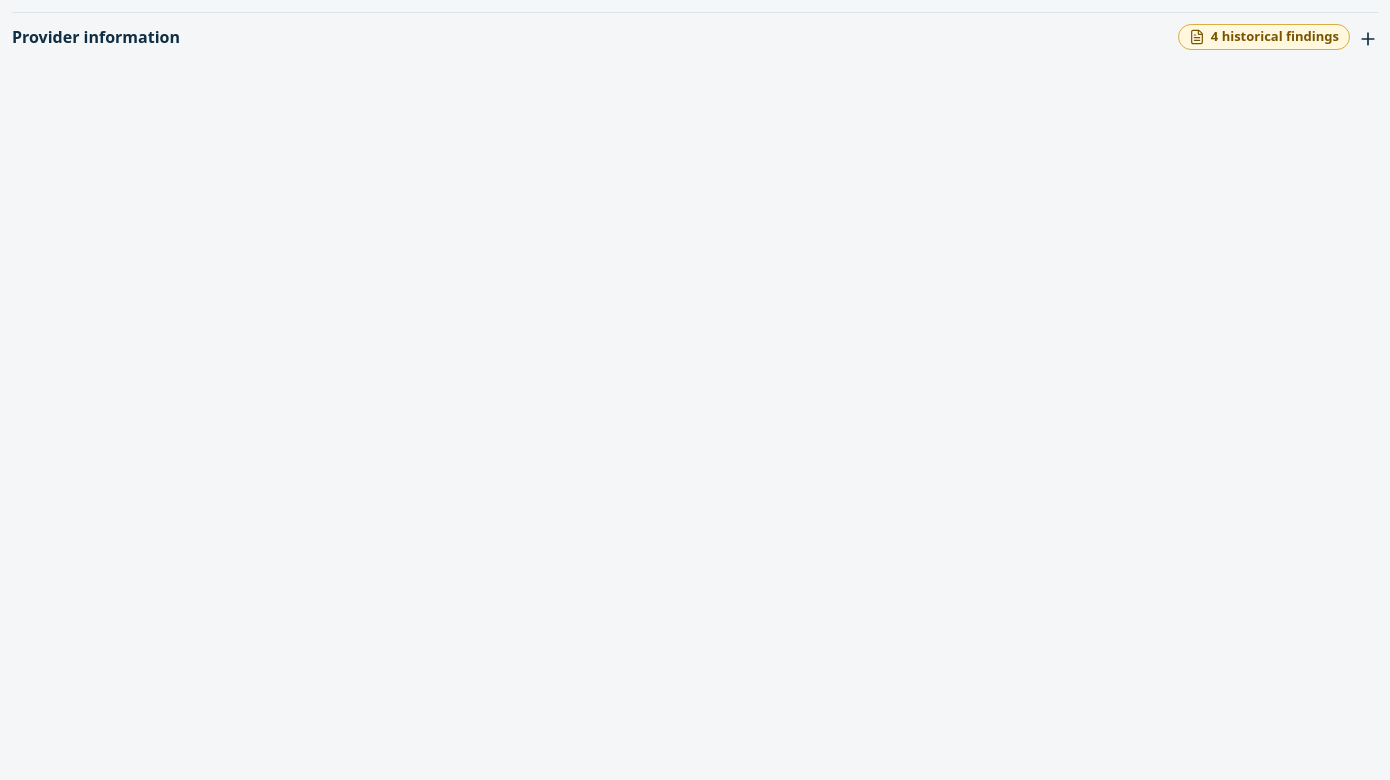
a newly retrieved report year joins reviewed history in both Provider information and Help
Click the button "Provider information 4 historical findings": (96, 37) [12,13,1378,61]
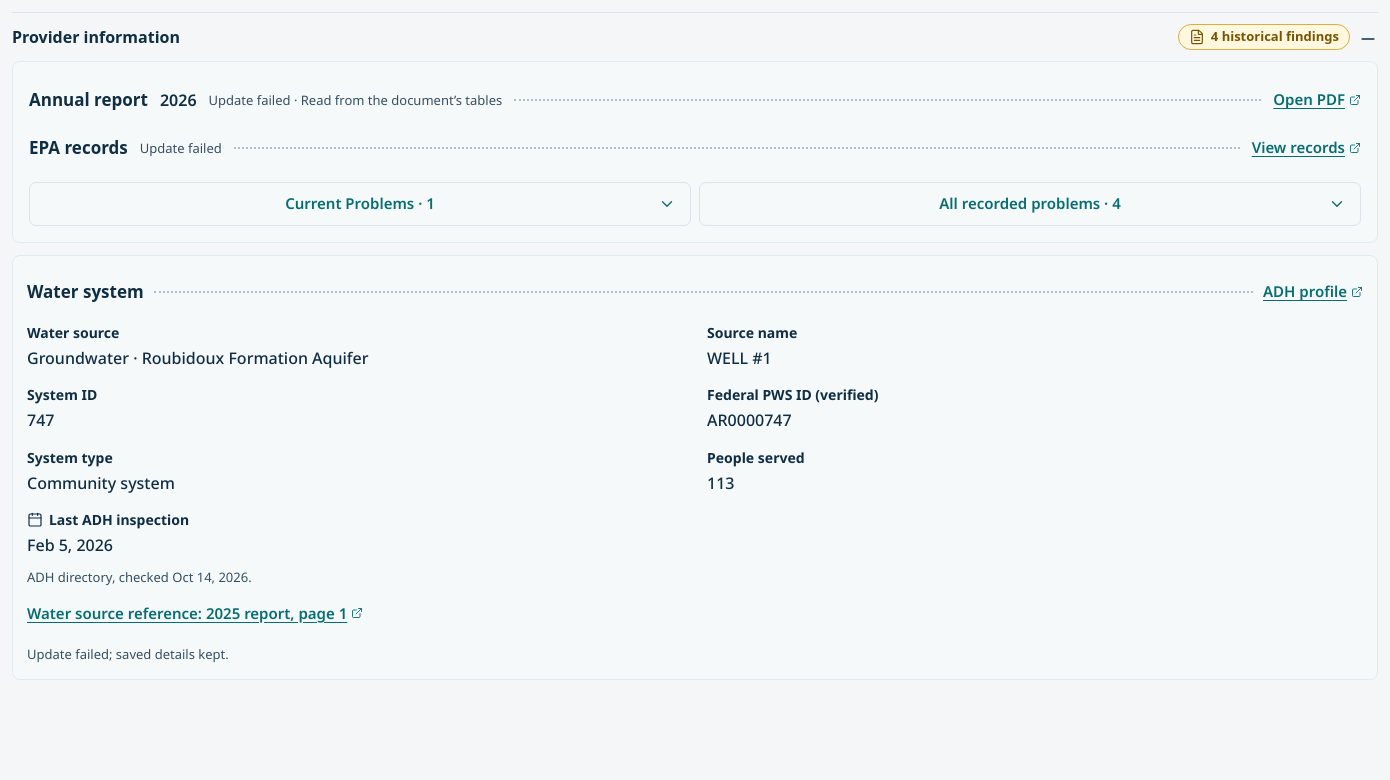
Check: the text with class "report-year" reads "2026", box [160,89,196,111]
Check: the button "All recorded problems · 4" is shown, box [699,182,1361,226]
